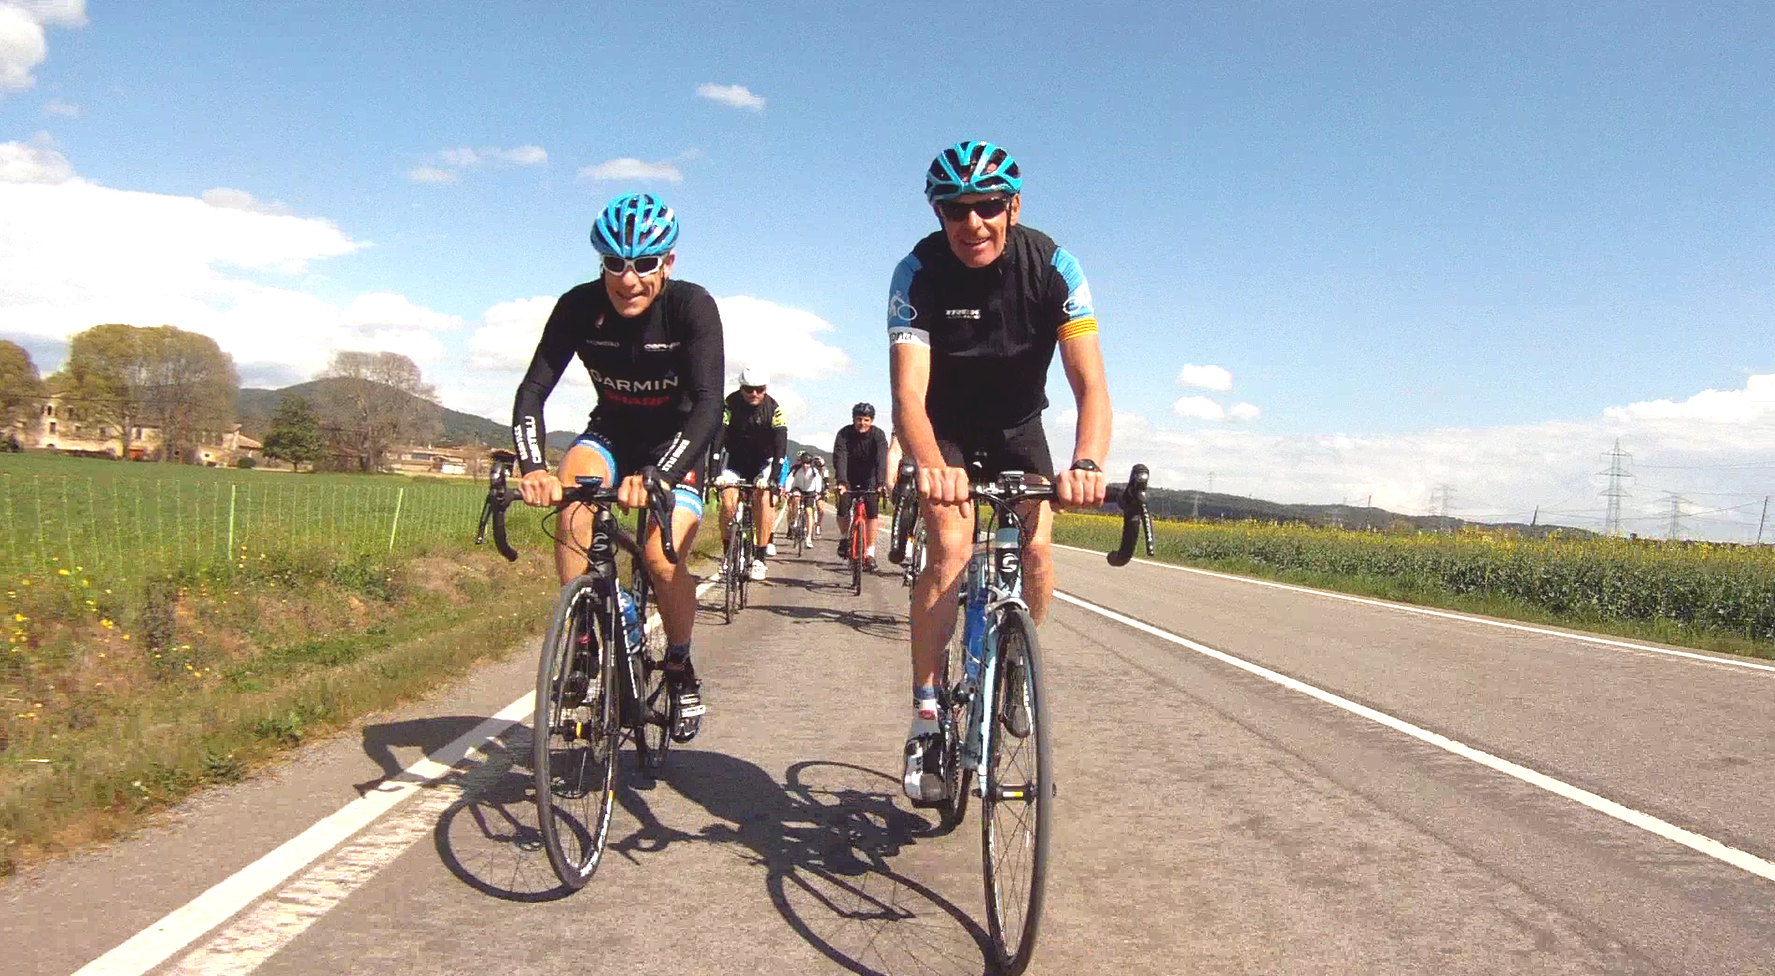helmet: (922, 131, 1025, 202), (590, 189, 683, 258), (735, 361, 768, 387)
